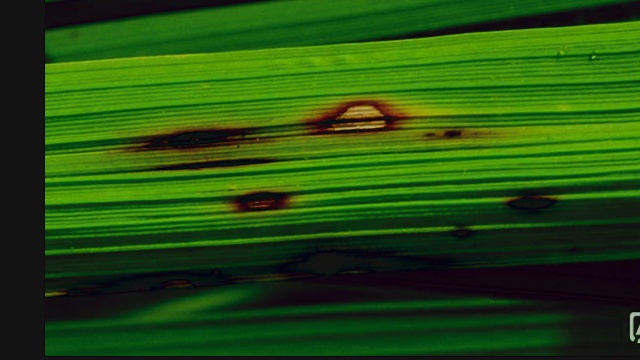Bacterial_Leaf_Blight: (106, 121, 261, 164), (302, 88, 406, 138), (270, 243, 392, 280), (215, 175, 299, 214), (489, 187, 566, 212)
